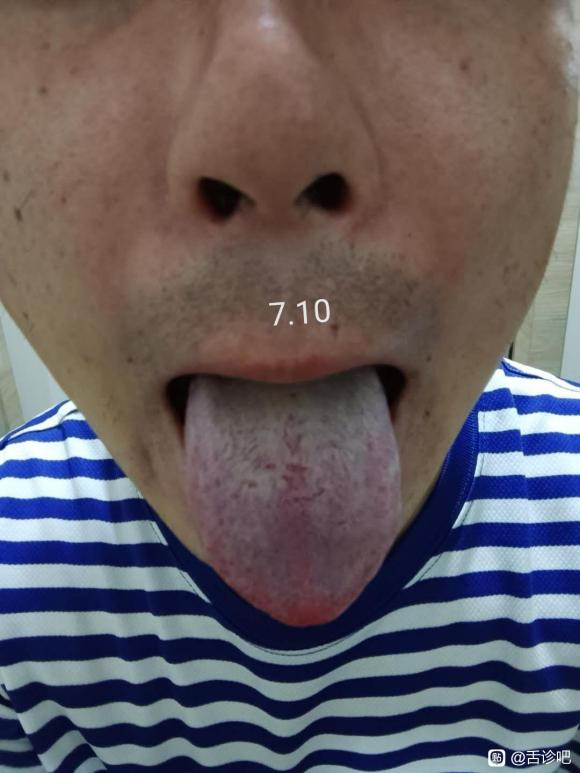baitaishe: (186, 374, 401, 626)
zishe: (186, 374, 401, 626)
